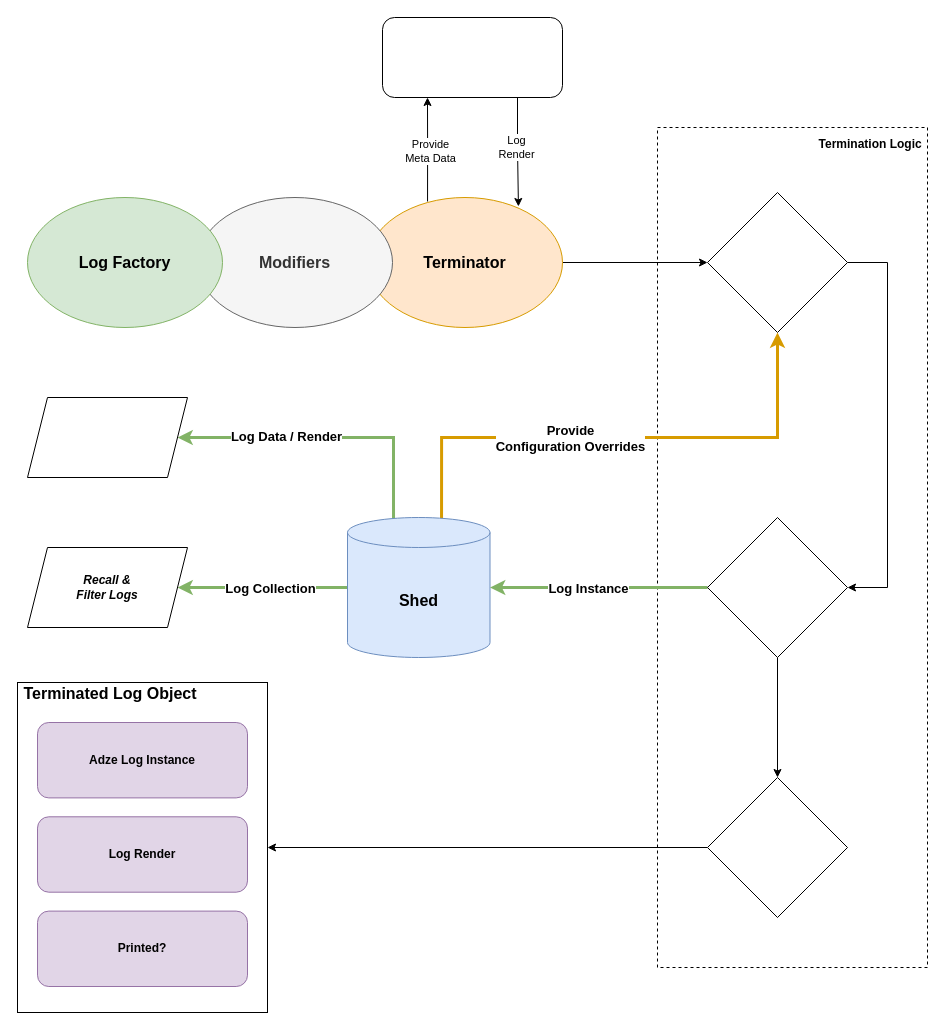
This 945x1030 diagram has some shape labels left out. The centre of each missing label's shape, as x and y in pixels:
If Shed exists, cache the log.: the point at 777,587
Log Listeners: the point at 107,437
Printer: the point at 472,57
Return the Terminated Log Object: the point at 777,847
Write to Console or Ignore based on Config: the point at 777,262
